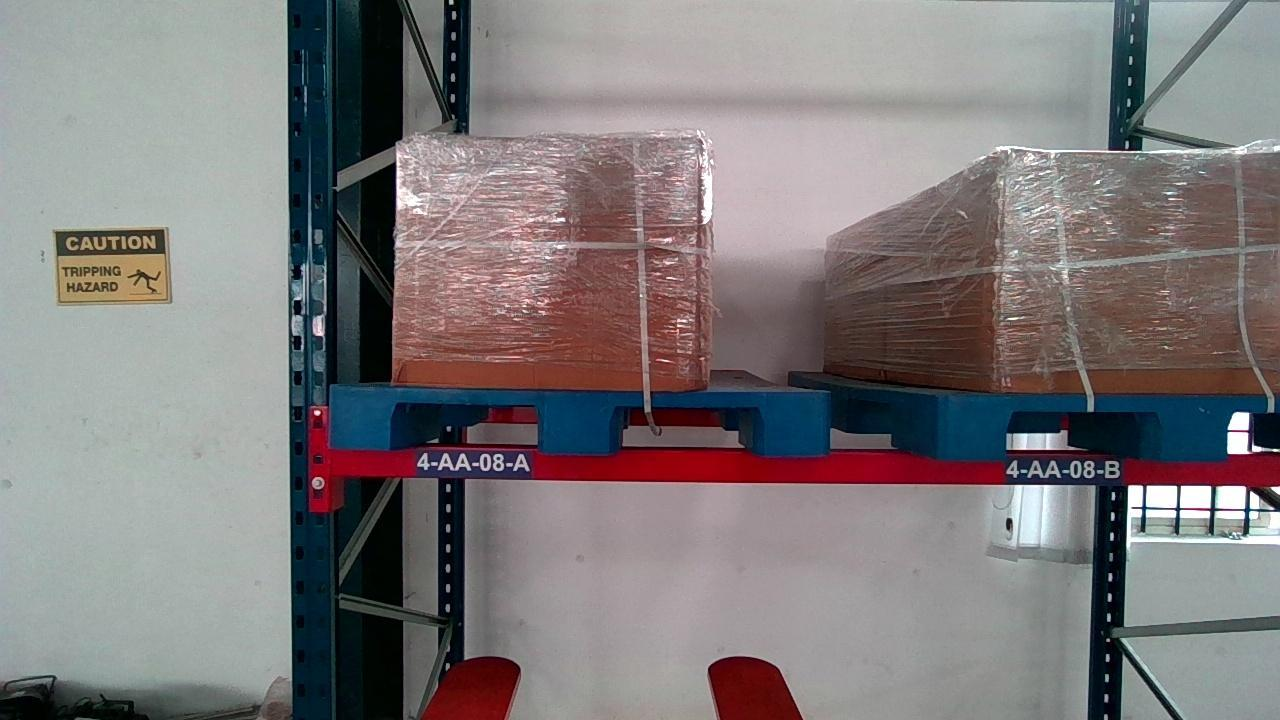h_rack: (327, 450, 1280, 488)
small_pallet: (335, 387, 829, 449), (963, 391, 1280, 450)
